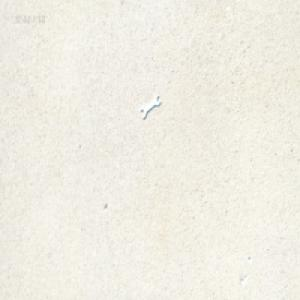Wrench: (140, 97, 161, 120)
